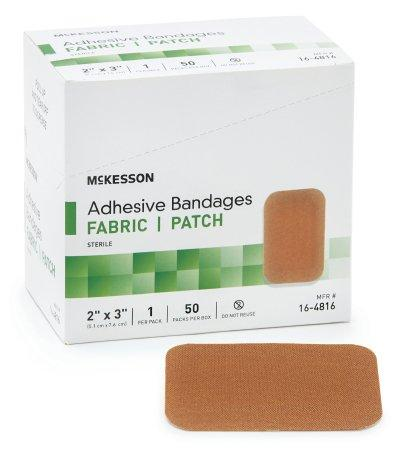bandage: (161, 337, 384, 437), (260, 188, 328, 286)
